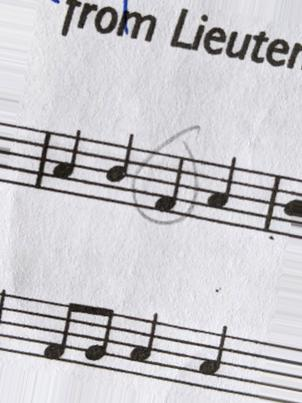A: (202, 153, 241, 235), (192, 323, 231, 400), (126, 308, 160, 385), (50, 126, 84, 198)
B: (98, 131, 138, 209)
F: (151, 150, 189, 227)
